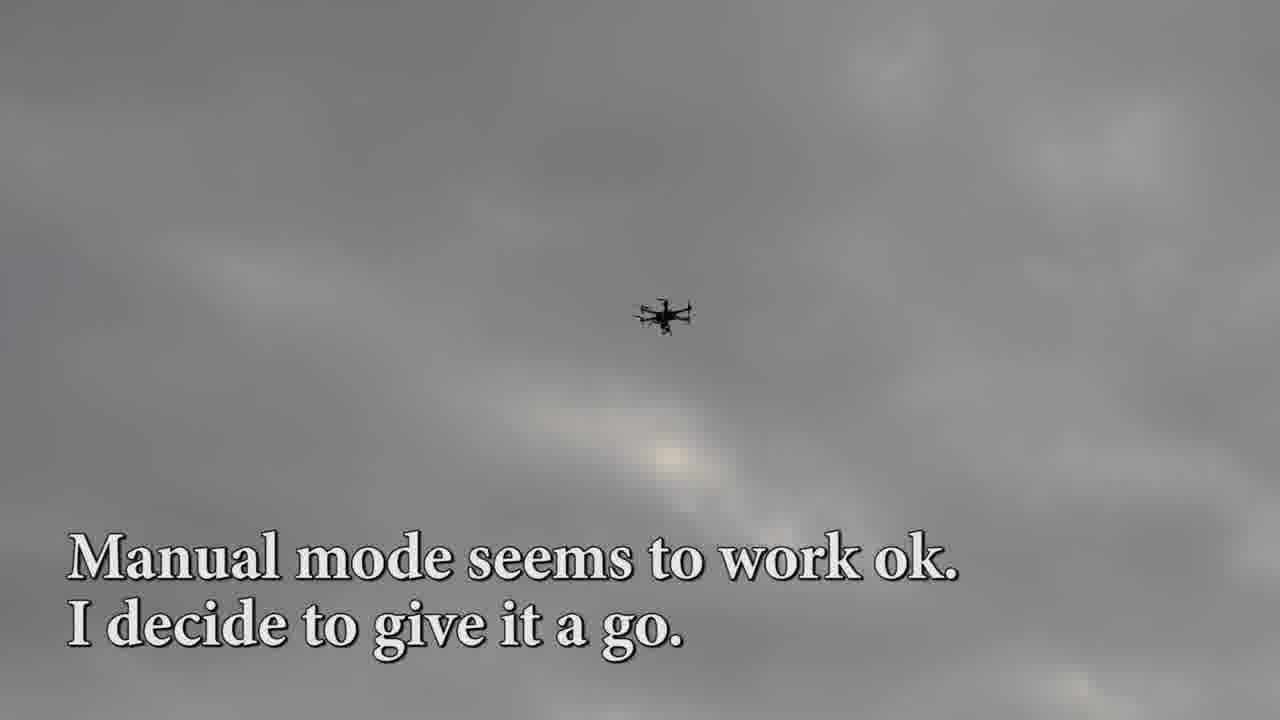drone: (634, 293, 698, 338)
